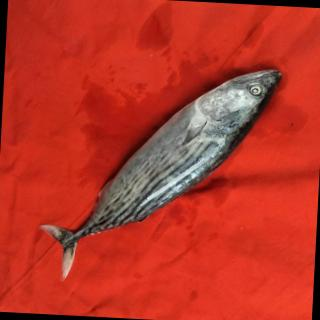Ikan: (40, 49, 282, 286)
